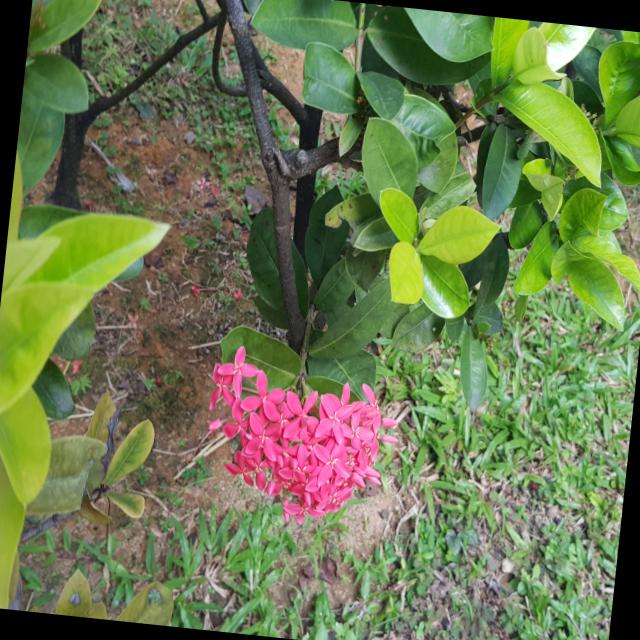Chinese-Ixora: (194, 341, 410, 538)
